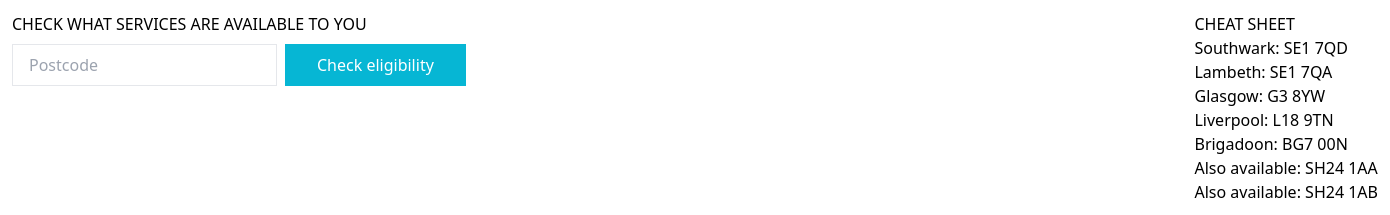
Test: ServiceChecker › finds service unavailable › Submits L18 9TN
Expected: the text "Check what services are available to you" is shown, [12,13,367,35]
Type "L18 9TN" into the field labelled "Postcode".
click(144, 65); type("L18 9TN")  # box [12,44,277,86]
Then press Enter
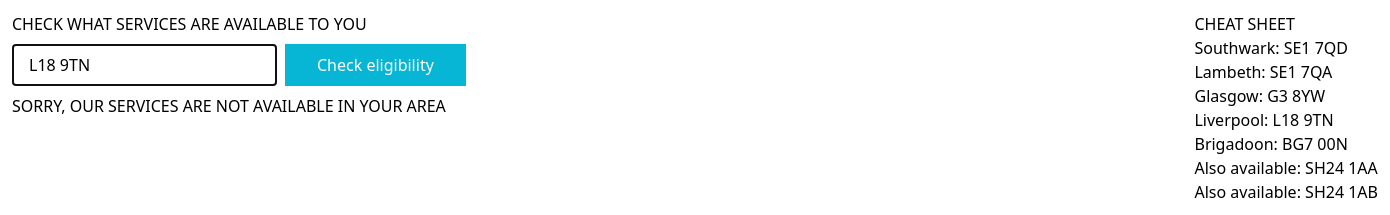
Expected: the text "Sorry, our services are not available in your area" is shown, [12,94,466,118]
